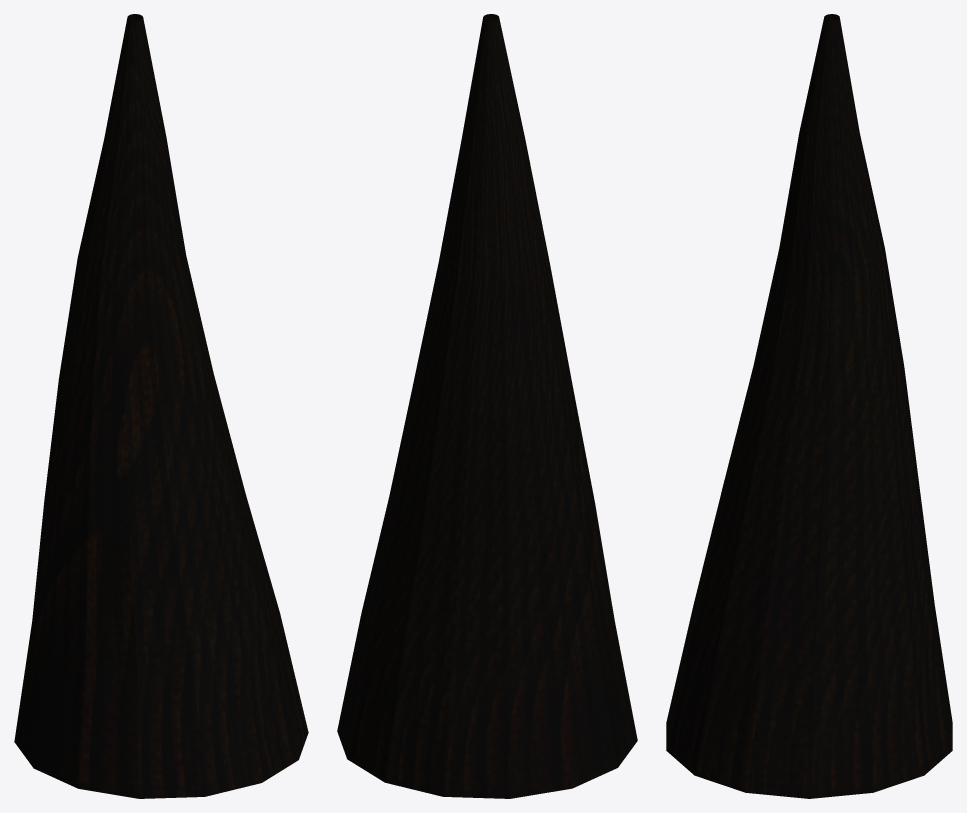
File: darkbark.obj
3 renders of one model, left to right at view 1: azimuth 30°, elevation 25°; view 2: azimuth 150°, elevation 25°; view 3: azimuth 270°, elevation 25°, orthographic. The views are drawn at different scales.
Bounding box in the file's own units: 2.24 × 5.99 × 2.18.
